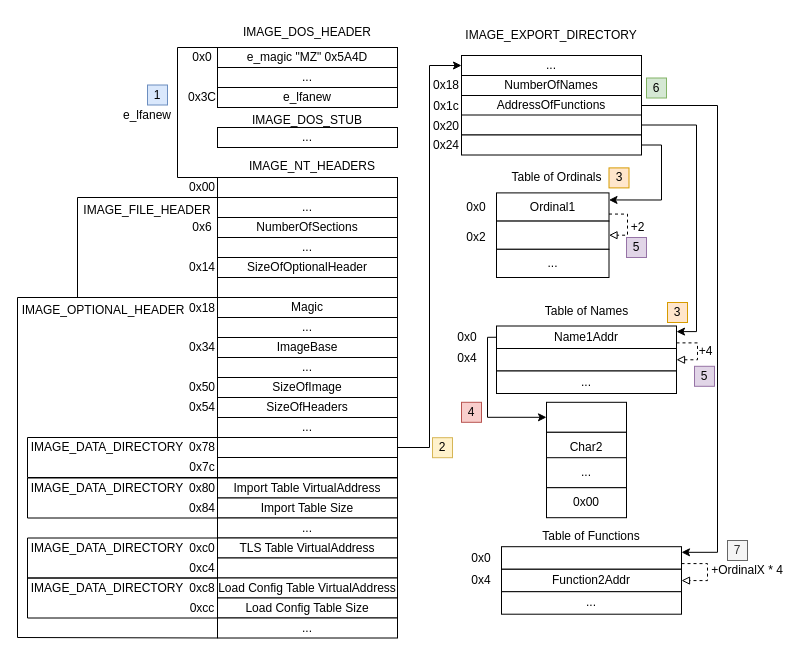
The diagram is 805 pixels wide and 656 high, and some of its shapes have lost their labels. The centre of each missing label's shape, as x and y in pixels:
AddressOfNameOrdinals: point 551,144
AddressOfNames: point 551,124
Char1: point 586,416
Characteristics: point 307,287
Export Table Size: point 307,467
Export Table VirtualAddress: point 307,447
Function1Addr: point 591,557
Name2Addr: point 586,359
Ordinal2: point 552,234
Signature "PE" 0x4550: point 307,187
TLS Table Size: point 307,567
